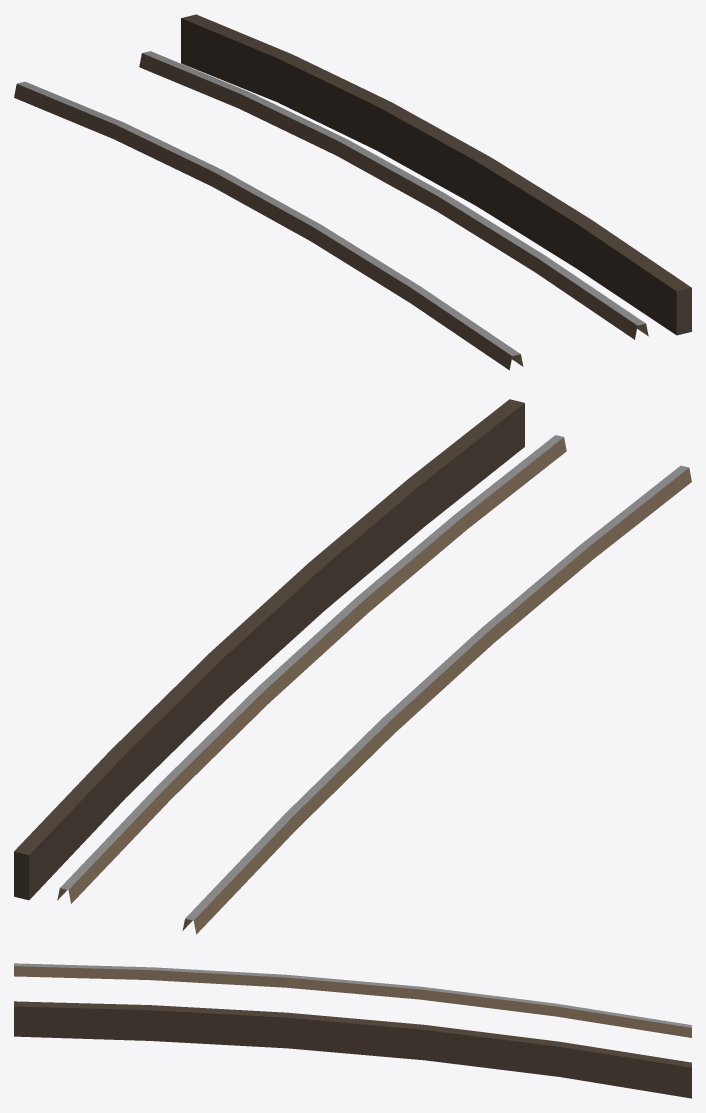
File: SW_ENV_TrackRiser_B_Collision.fbx
The picture shows the model from 3 angles, top to bottom: view 1: azimuth 30°, elevation 25°; view 2: azimuth 150°, elevation 25°; view 3: azimuth 270°, elevation 25°; orthographic projection. The views are drawn at different scales.
Visible parts, largest first — view 1: SW_ENV_TrackRiser_B_Collision; view 2: SW_ENV_TrackRiser_B_Collision; view 3: SW_ENV_TrackRiser_B_Collision.
Boxes of the visible parts, bbox=[...] form: SW_ENV_TrackRiser_B_Collision: bbox=[14, 14, 691, 370]; SW_ENV_TrackRiser_B_Collision: bbox=[14, 399, 691, 934]; SW_ENV_TrackRiser_B_Collision: bbox=[14, 963, 691, 1098].
Bounding box in the file's own units: 212 × 150 × 1000.
